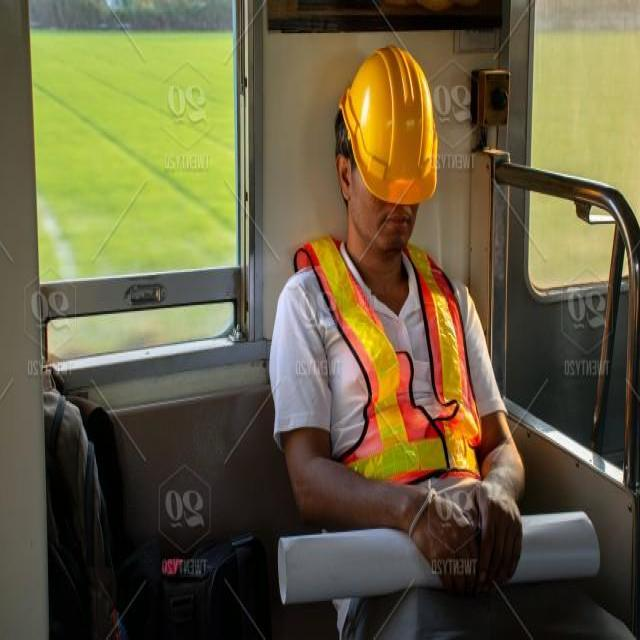Reflective-Jacket: (298, 234, 484, 490)
Safety-Helmet: (334, 42, 442, 210)
